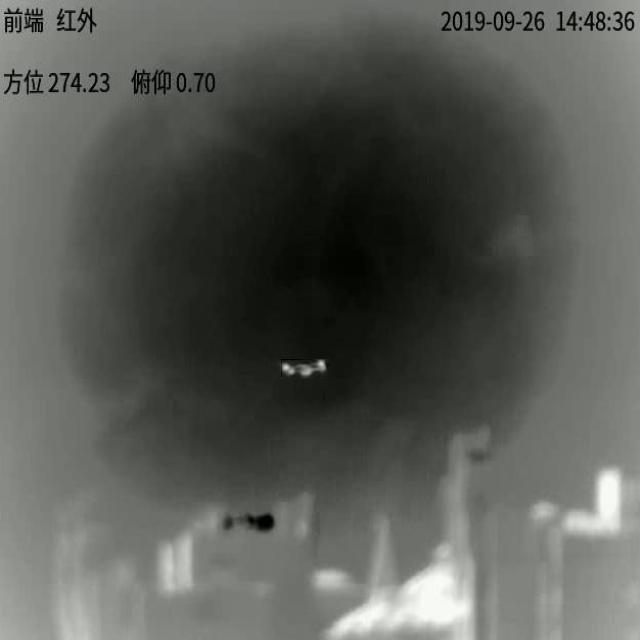drone: (281, 359, 326, 377)
